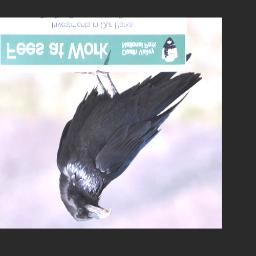Crow: (56, 51, 203, 222)
